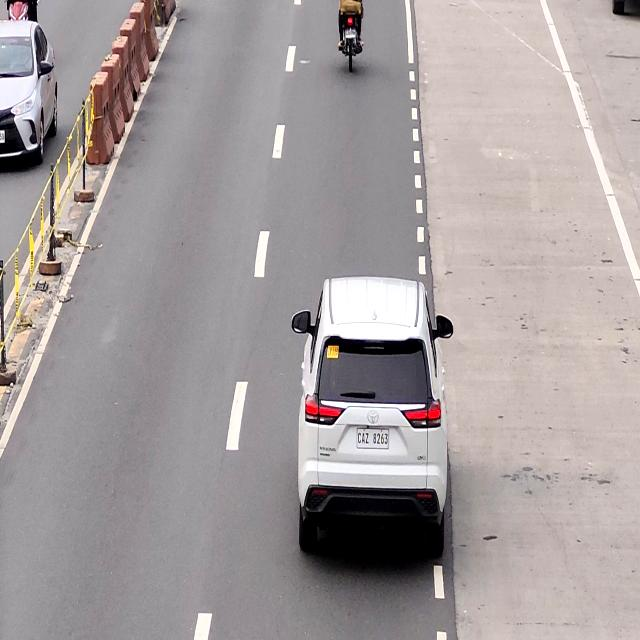Car: (296, 276, 454, 563)
License-Plate: (356, 426, 390, 450)
